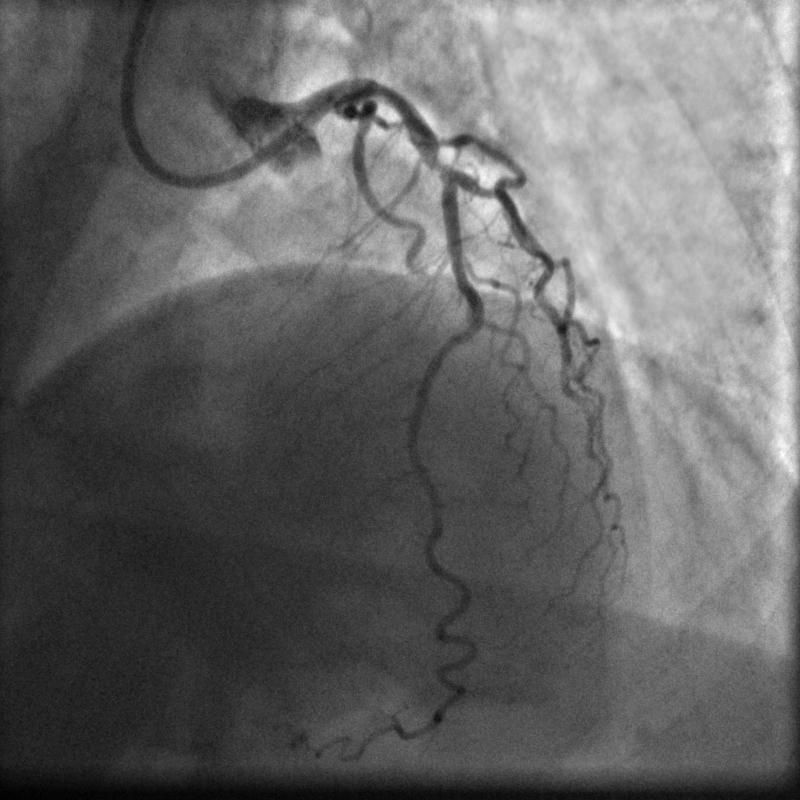Stenosis: (418, 152, 449, 174)
